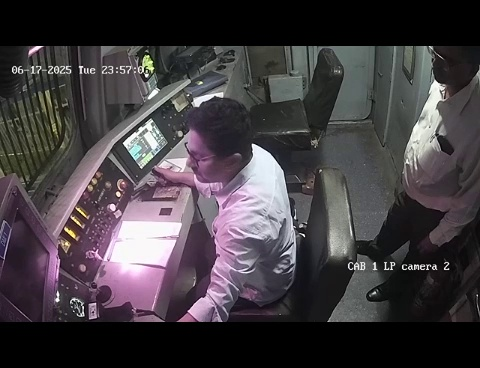horn_inactive: (72, 271, 123, 316)
